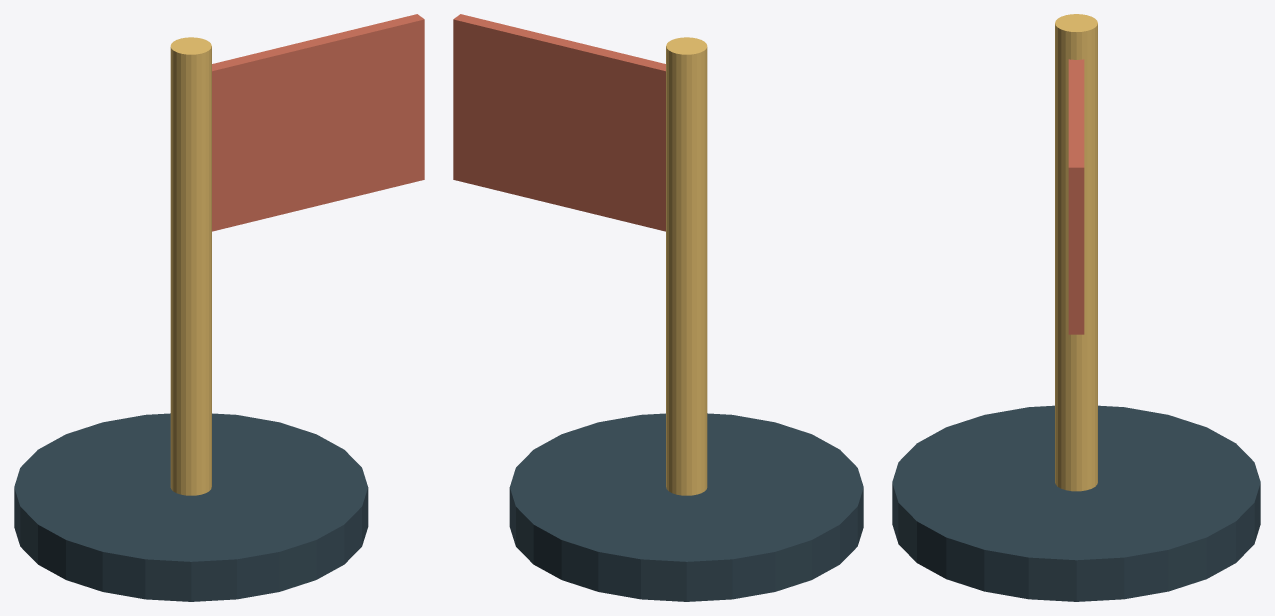
File: tabletop-game-components-flag-token-c15ac9f7__20859.glb
3 views of the same model, side by side, from view 1: azimuth 30°, elevation 25°; view 2: azimuth 150°, elevation 25°; view 3: azimuth 270°, elevation 25° (orthographic). The views are drawn at different scales.
Visible parts, largest first — view 1: flag-token; view 2: flag-token; view 3: flag-token.
Part boxes in pixels (x1,y1,x2,y2): flag-token: (14, 14, 424, 601); flag-token: (453, 14, 863, 601); flag-token: (892, 14, 1260, 601).
Size of the model in its own units: 0.03 by 0.036 by 0.024.
